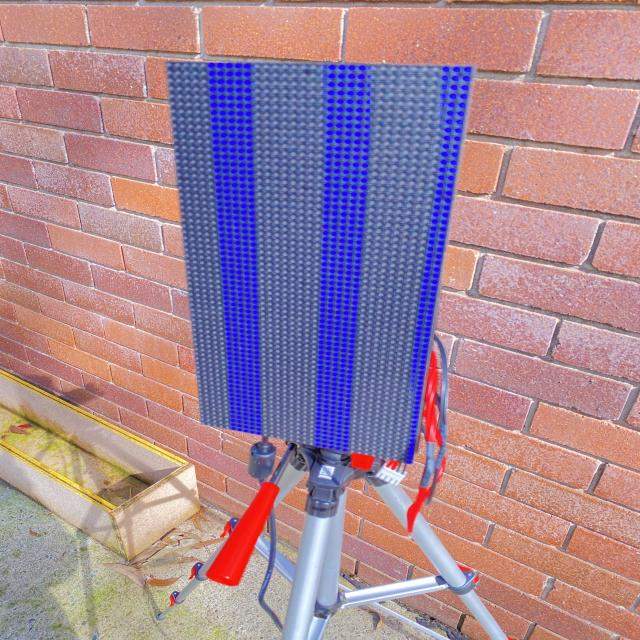matrix: (119, 44, 462, 483)
